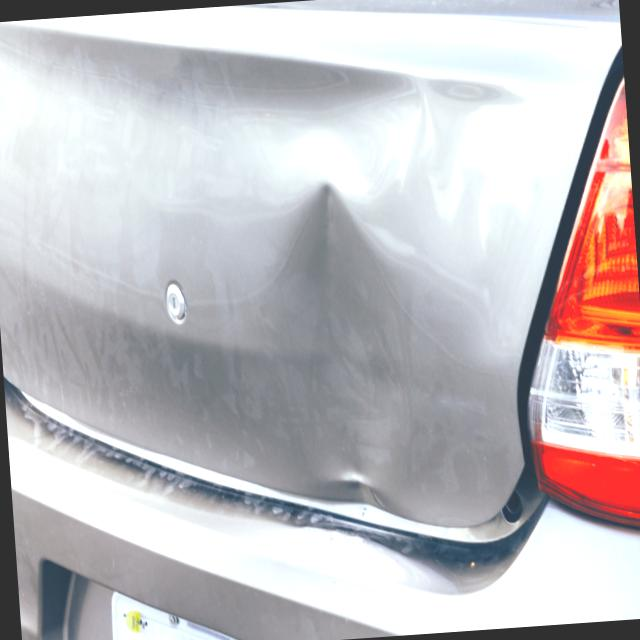Cabossage: (261, 151, 495, 548)
